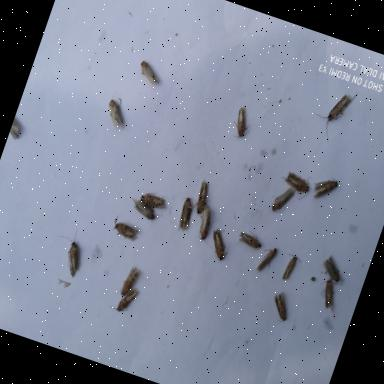pbw: (46, 223, 94, 281), (188, 197, 232, 253), (309, 276, 349, 324), (100, 89, 138, 135), (274, 166, 316, 205), (122, 194, 166, 231), (314, 251, 352, 291), (204, 224, 238, 266), (170, 194, 202, 237), (264, 180, 298, 220), (107, 280, 141, 318), (308, 170, 342, 208), (228, 102, 258, 144), (264, 288, 296, 327), (275, 250, 306, 288), (116, 262, 144, 302), (188, 178, 216, 218), (136, 184, 172, 215), (134, 56, 166, 89), (252, 243, 280, 280), (234, 224, 268, 254), (109, 217, 143, 246)
